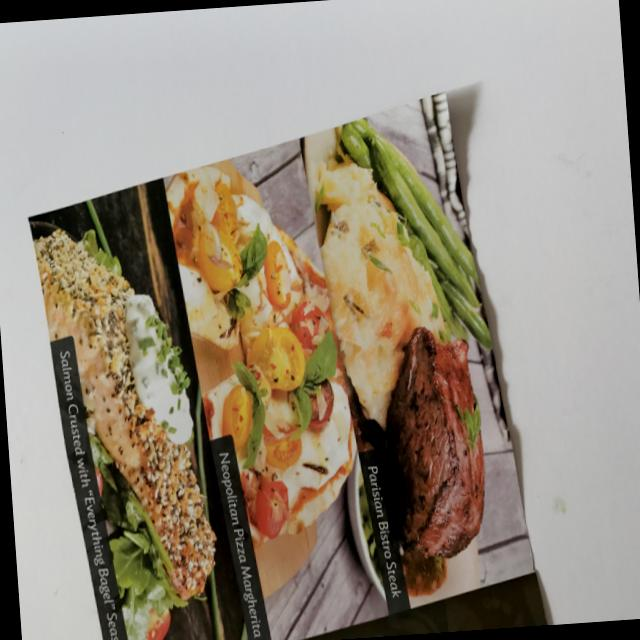Paper: (17, 78, 561, 640)
